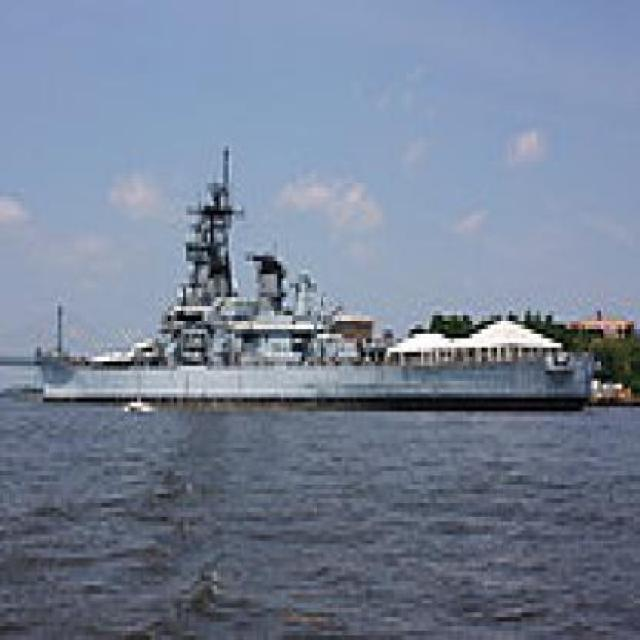warship2: (29, 156, 601, 427)
